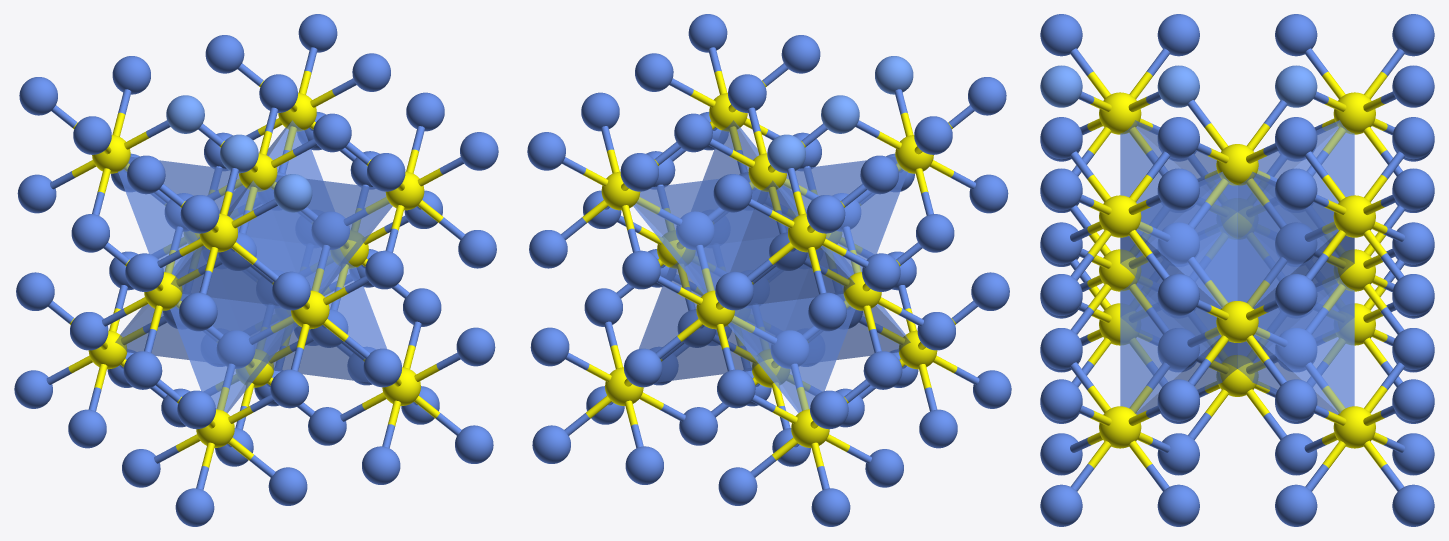
The picture shows the model from 3 angles, left to right: view 1: azimuth 30°, elevation 25°; view 2: azimuth 150°, elevation 25°; view 3: azimuth 270°, elevation 25°; orthographic projection. The views are drawn at different scales.
Visible parts, largest first — view 1: Mesh_29; view 2: Mesh_29; view 3: Mesh_29.
Boxes of the visible parts, box(x1,y1,x2,y2) form: Mesh_29: box(14, 14, 498, 526); Mesh_29: box(527, 14, 1011, 526); Mesh_29: box(1040, 14, 1434, 526).
Bounding box in the file's own units: 948 × 948 × 933.
